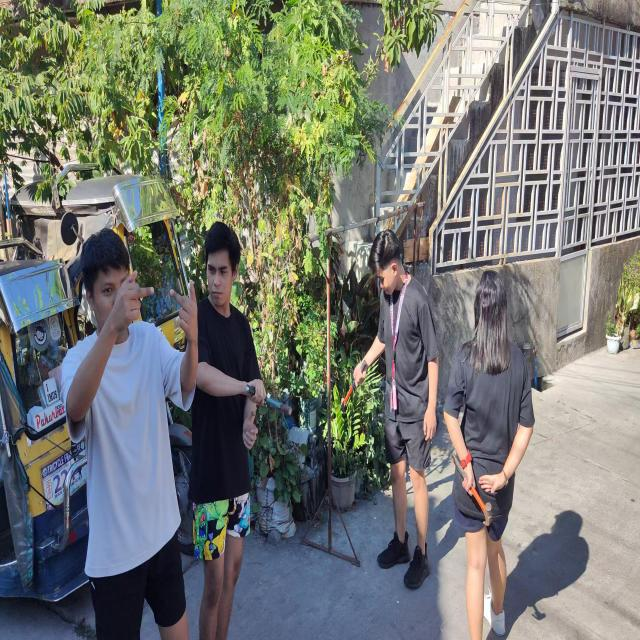hammer: (452, 453, 492, 526), (246, 385, 292, 416), (340, 360, 367, 412)
